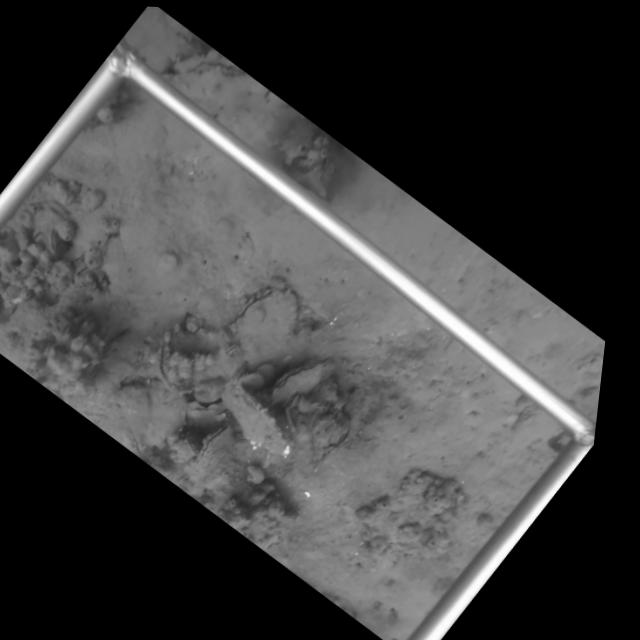Oyster-Closed: (218, 376, 302, 457), (266, 356, 344, 406), (184, 423, 238, 485), (308, 407, 354, 457), (152, 327, 180, 395), (45, 225, 60, 257)
Oyster-Indeterminate: (230, 283, 301, 354)
